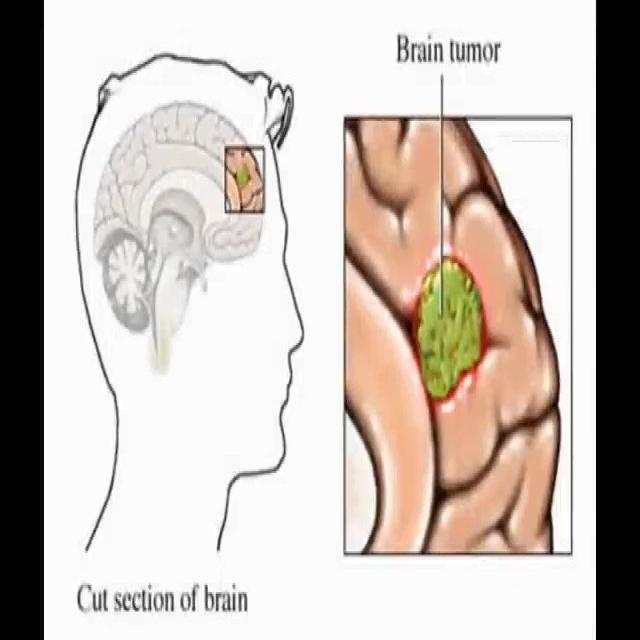tumor: (388, 241, 496, 405)
